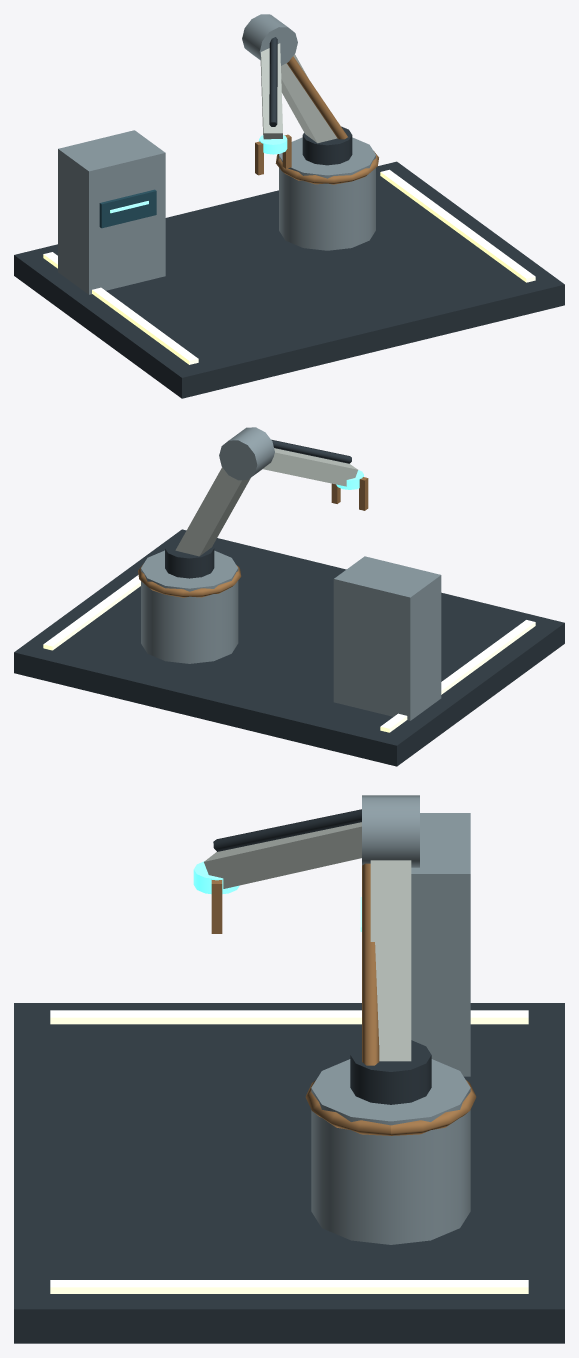
Rendered from repair-bay.lod2.glb.
3 renders of one model, top to bottom at view 1: azimuth 30°, elevation 25°; view 2: azimuth 150°, elevation 25°; view 3: azimuth 270°, elevation 25°, orthographic. The views are drawn at different scales.
Parts seen in each view (by area): view 1: structure, manipulator; view 2: structure, manipulator; view 3: structure, manipulator.
Boxes of the visible parts, x1,y1,x2,y2 form: structure: (14, 130, 564, 398); manipulator: (242, 14, 352, 175); structure: (14, 529, 564, 766); manipulator: (165, 427, 368, 578); structure: (14, 813, 564, 1343); manipulator: (193, 795, 431, 1104).
Size of the model in its own units: 5 by 3.05 by 3.8.
